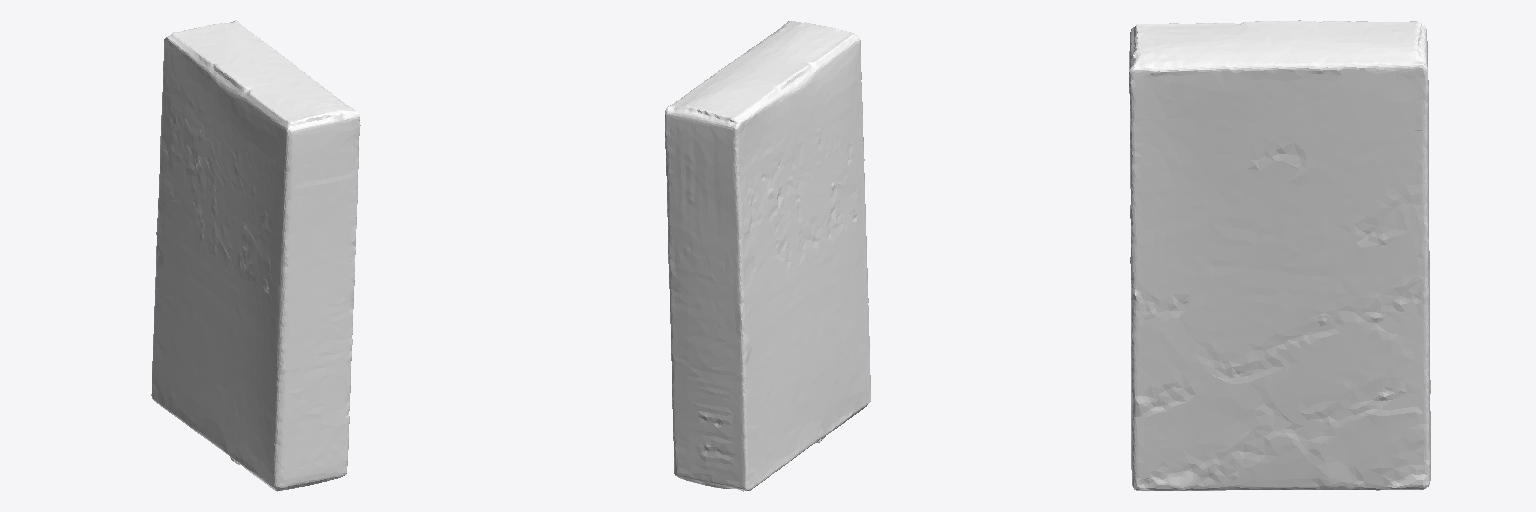
robot.urdf — model.urdf:
<?xml version='1.0' encoding='utf-8'?>
<robot name="model.urdf">
  <link name="baseLink">
    <contact>
      <friction_anchor />
      <lateral_friction value="0.3" />
      <rolling_friction value="0.0" />
      <contact_cfm value="0.0" />
      <contact_erp value="1.0" />
    </contact>
    <inertial>
       <origin rpy="0 0 0" xyz="0 0 0" />
       <mass value="0.1" />
       <inertia ixx="8e-05" ixy="0" ixz="0" iyy="0.0002" iyz="0" izz="0.0002" />
    </inertial>
    <visual>
      <geometry>
        <mesh filename="textured.obj" scale="0.001 0.001 0.001" />
      </geometry>
      <material name="white">
        <color rgba="1. 1. 1. 1." />
      </material>
    </visual>
    <collision>
      <geometry>
    	 	<mesh filename="coacd_collision.obj" scale="0.001 0.001 0.001" />
      </geometry>
    </collision>
  </link>
</robot>

--- Facts derived from the render (not from the file) ---
The picture shows the robot from 3 angles, left to right: view 1: azimuth 30°, elevation 25°; view 2: azimuth 150°, elevation 25°; view 3: azimuth 270°, elevation 25°; orthographic projection.
Model model.urdf with 1 links and 0 joints (none), rooted at baseLink, posed every joint at zero.
Links seen in each view (by area): view 1: baseLink; view 2: baseLink; view 3: baseLink.
Boxes of the visible links, x1,y1,x2,y2 form: baseLink: (151,20,360,491); baseLink: (665,21,870,491); baseLink: (1129,20,1430,490).
Size in the robot's own frame: 0.0335 by 0.0866 by 0.1402 metres.
1 mesh visuals loaded from 1 distinct referenced files (1 OBJ).
